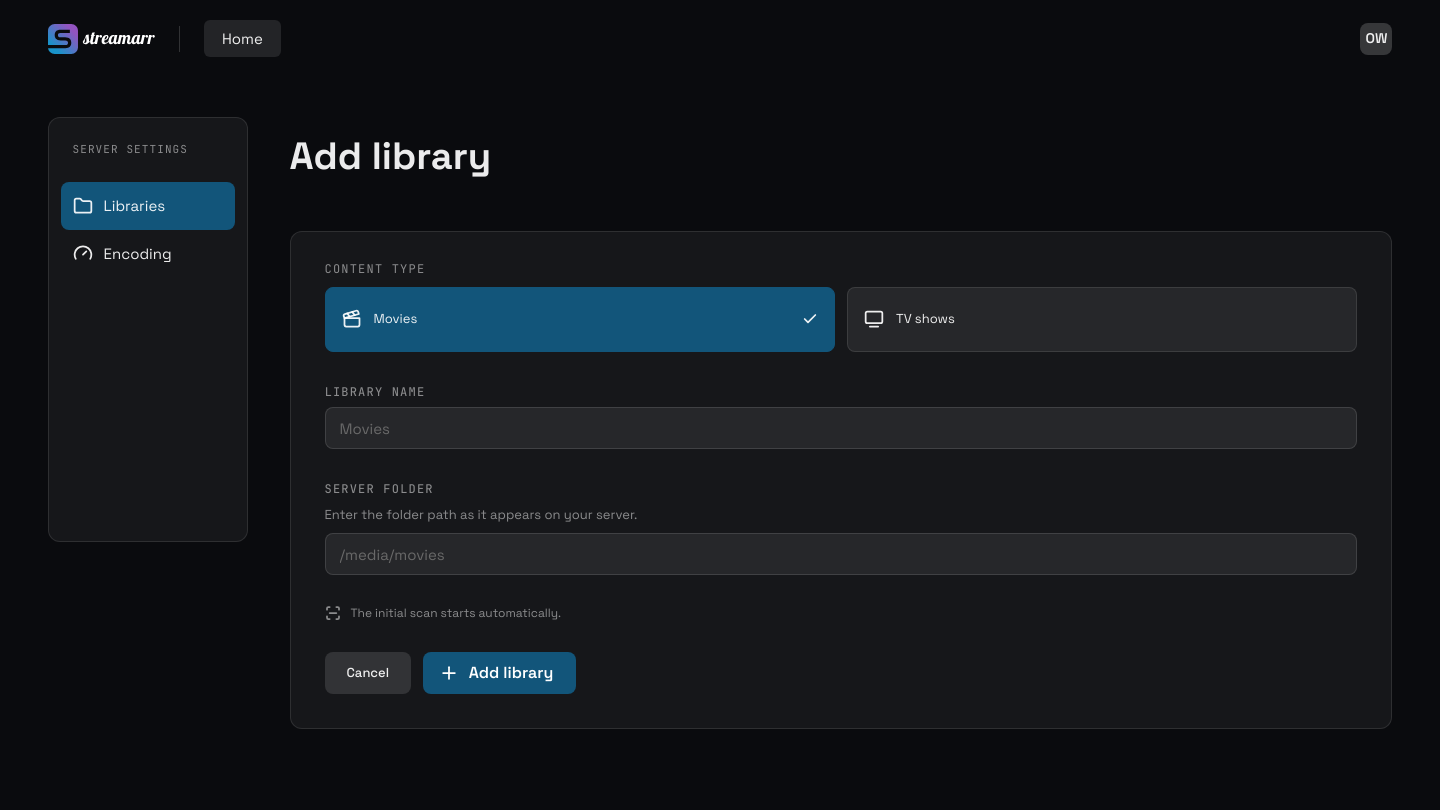
Test: library administration › shouldPreventDuplicateCreationAndPreserveDraftAfterTransportFailure
Type "Family" into the field labelled "Library name" at x=841, y=428, box [324,407,1358,449]
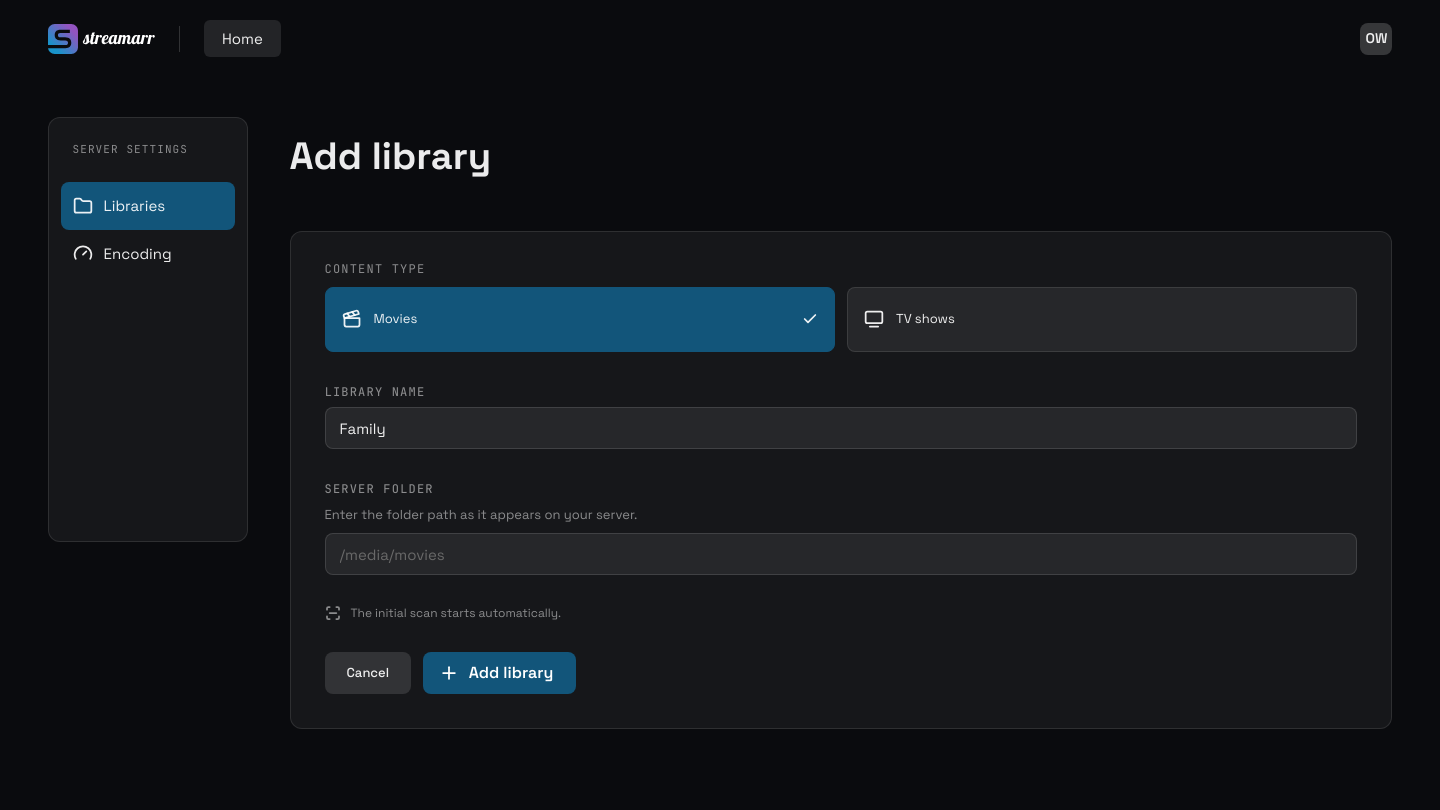
Type "/media/family" into the field labelled "Server folder" at x=841, y=554, box [324,533,1358,575]
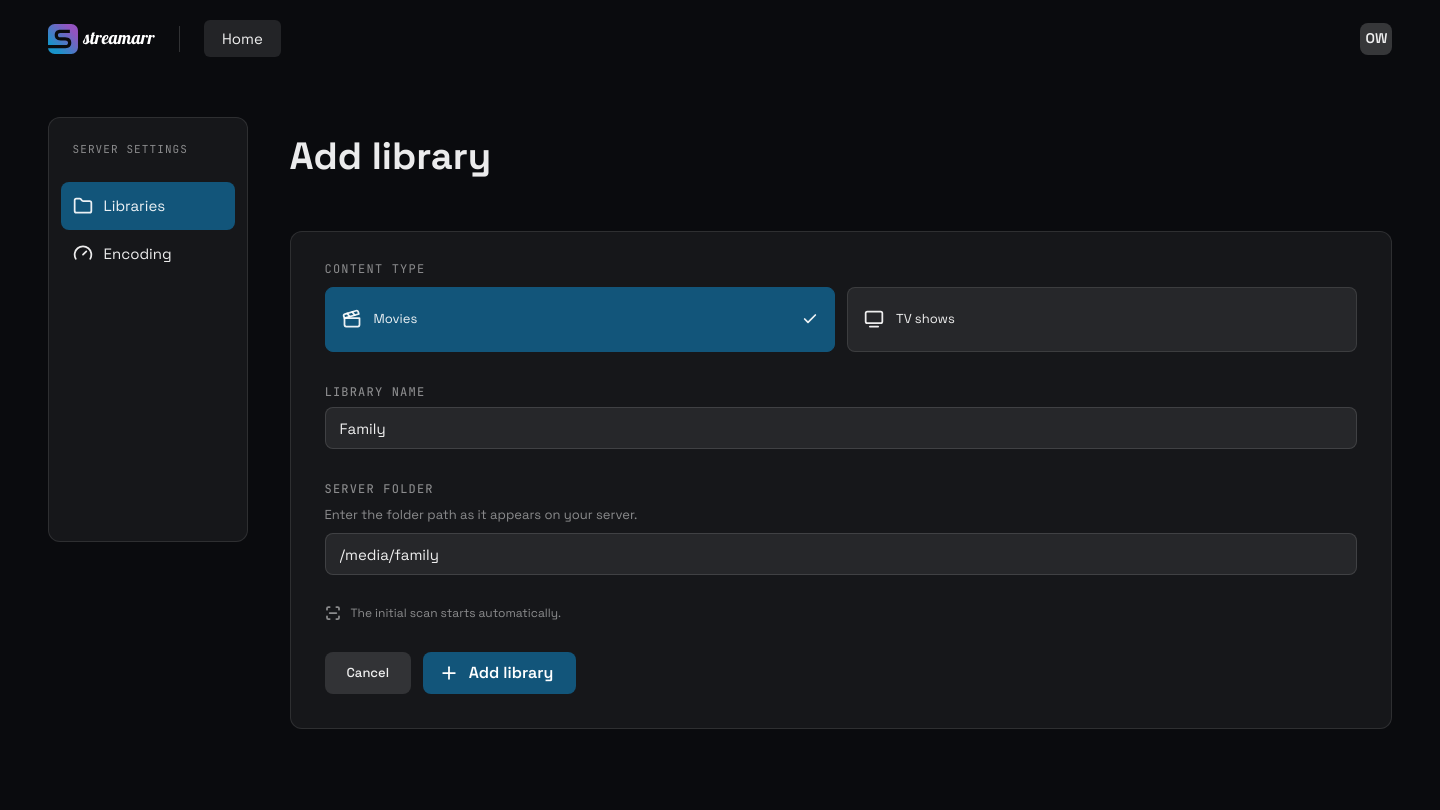
Double-click the button "Add library" at x=500, y=673, box [423,652,576,694]
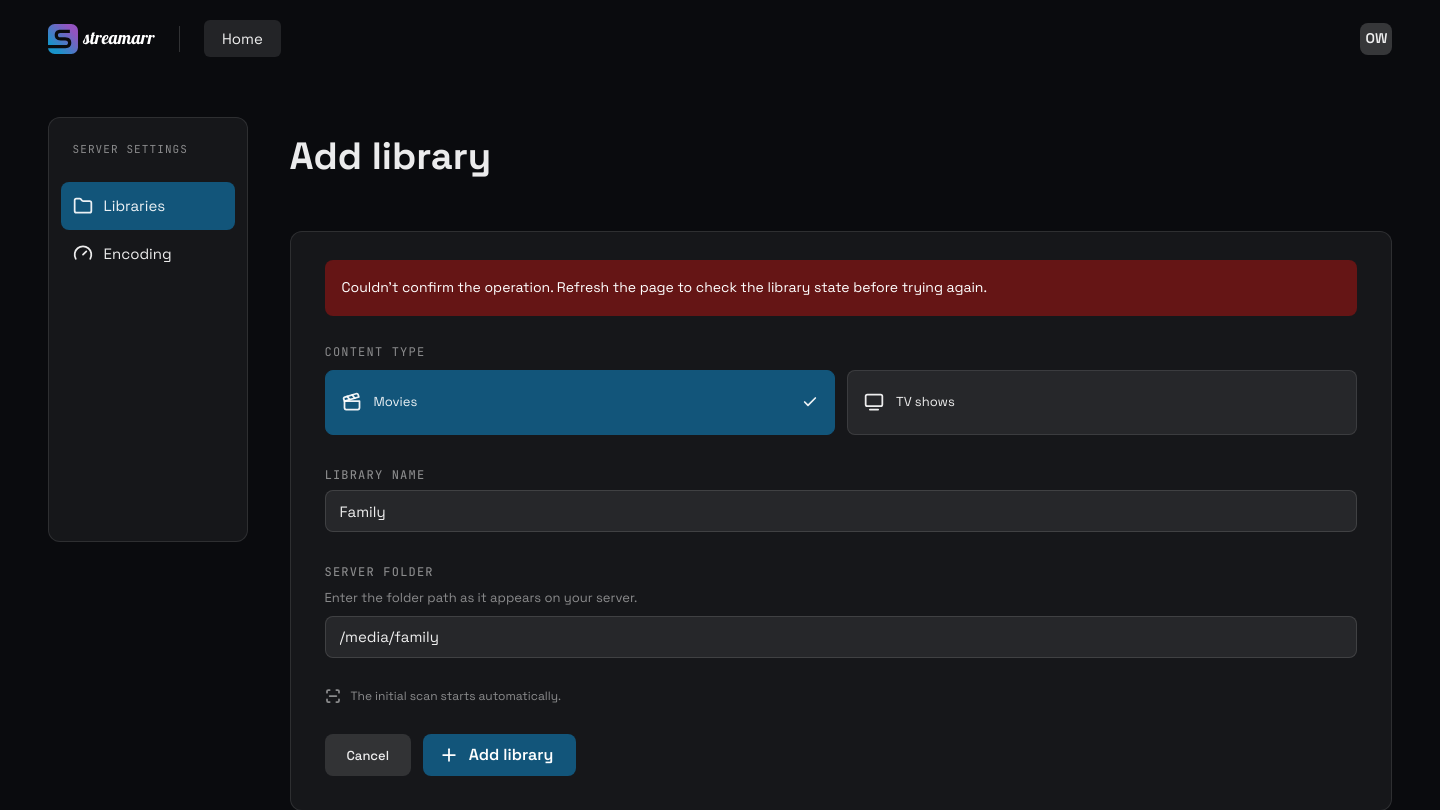
Result: the message shows "Couldn't confirm the operation" at [342,278,987,296]
